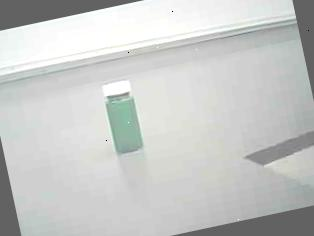Bottle C: (94, 73, 157, 164)
